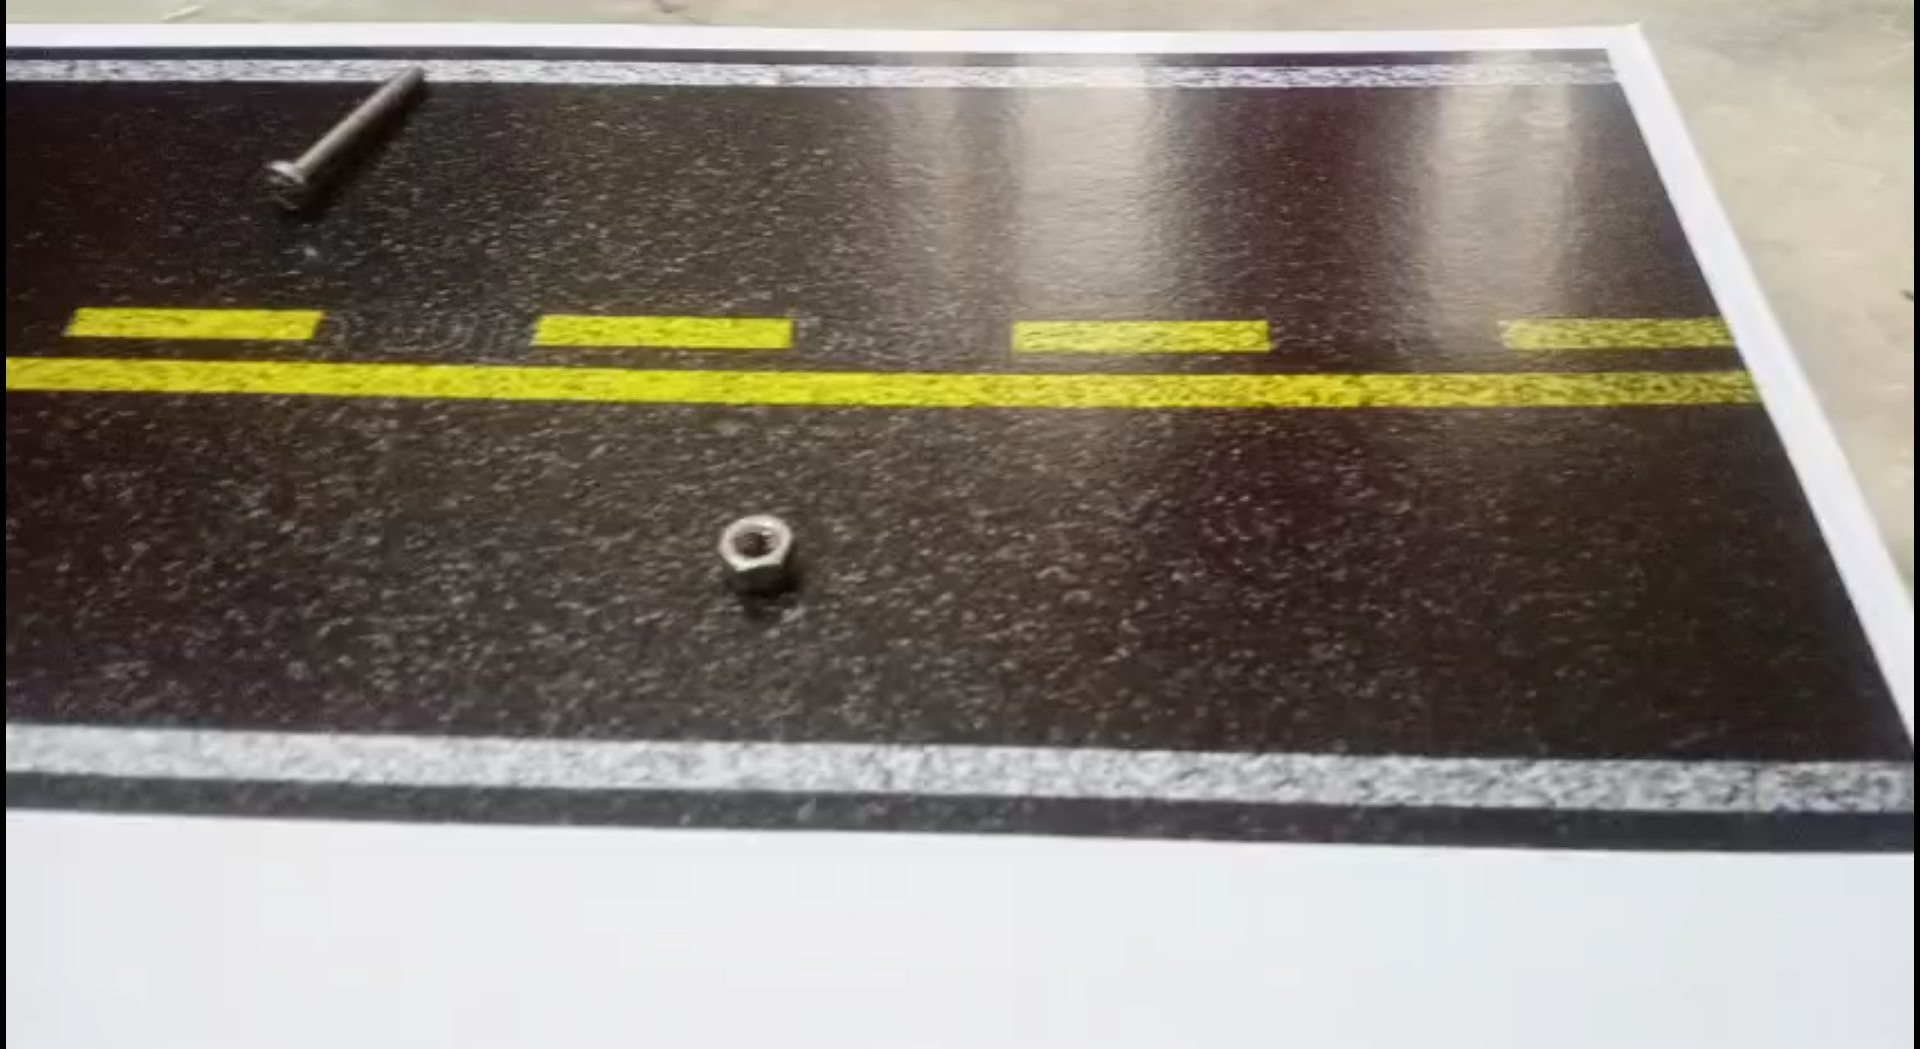metal: (238, 56, 427, 212), (715, 508, 801, 579)
